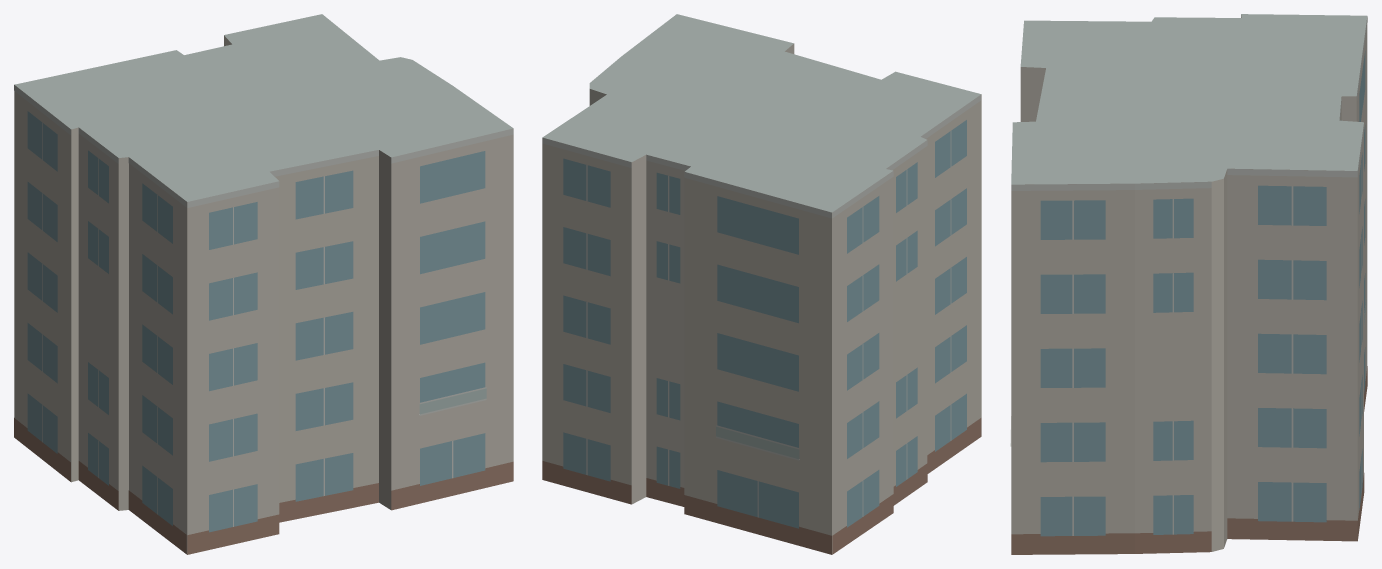
The model's file is survey-upis-32774124.glb.
3 renders of one model, left to right at view 1: azimuth 30°, elevation 25°; view 2: azimuth 150°, elevation 25°; view 3: azimuth 270°, elevation 25°, orthographic. The views are drawn at different scales.
Visible parts, largest first — view 1: survey-upis-32774124.tmp; view 2: survey-upis-32774124.tmp; view 3: survey-upis-32774124.tmp.
Boxes of the visible parts, x1=… form: survey-upis-32774124.tmp: x1=14, y1=14, x2=513, y2=554; survey-upis-32774124.tmp: x1=542, y1=14, x2=981, y2=554; survey-upis-32774124.tmp: x1=1010, y1=14, x2=1367, y2=554.
Size of the model in its own units: 13.94 by 14.1 by 12.33.
